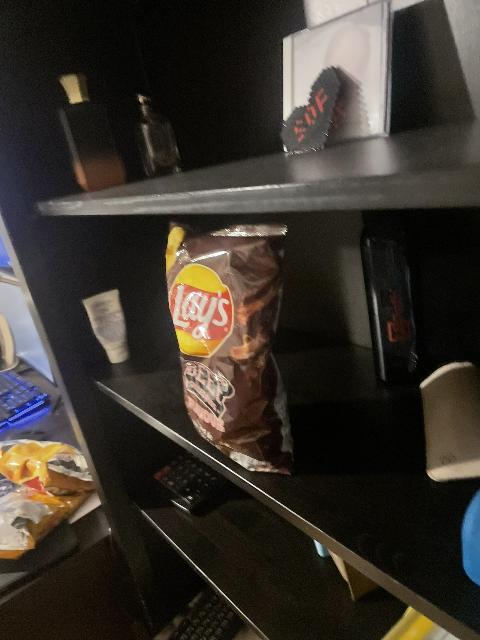Chio Cascaval 125g: (0, 481, 82, 559)
Chio Hula Hoops Cheese 70g: (0, 438, 100, 497)
Lays Beef Grilled Ribs 125g: (166, 224, 296, 470)
